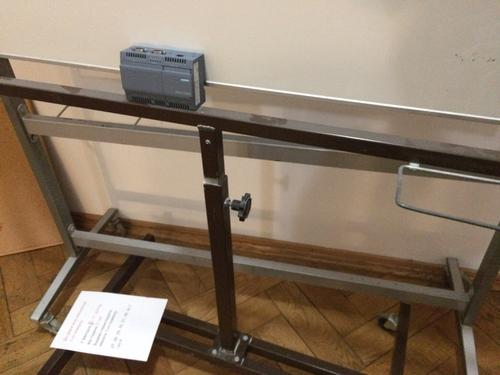iot2000: (118, 44, 206, 112)
